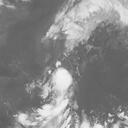cyclone: (48, 66, 77, 98)
